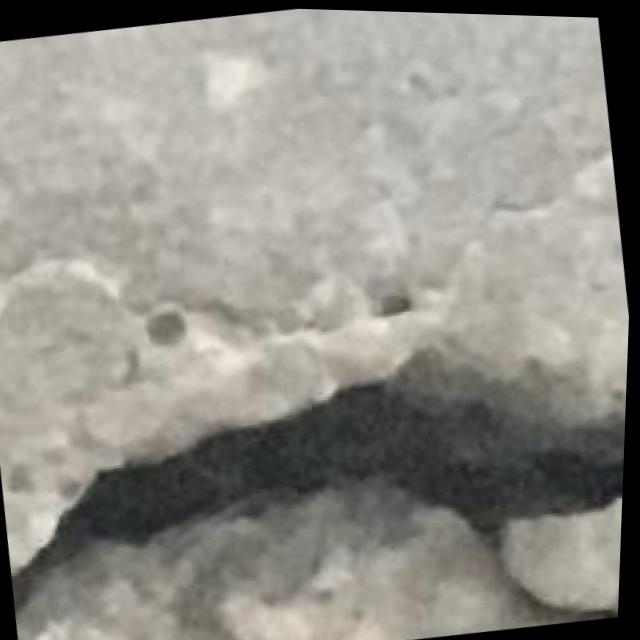Crack: (0, 310, 631, 640)
